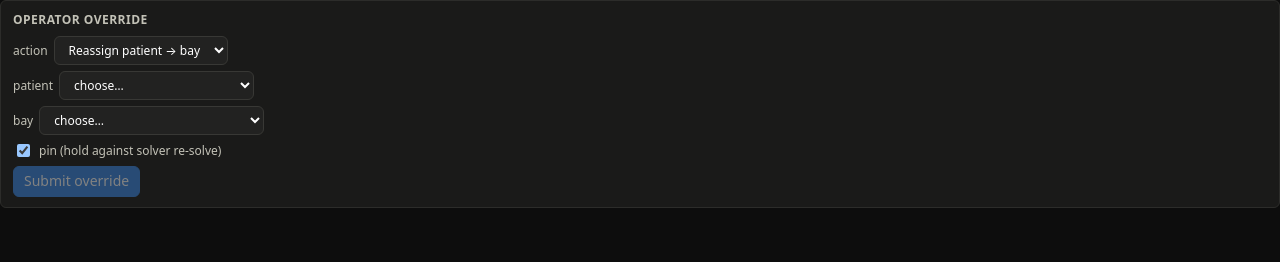
Scenario: OverridePanel accept path › shows the applied verdict, plan size, pin state, and sends pin=true by default
Select "Reassign patient → bay" in the dropdown named "override action": (141,51) [54,36,228,65]
Select "p-0001 · ESI-3 · waiting_bay" in the dropdown labelled "patient": (157,86) [59,71,254,100]
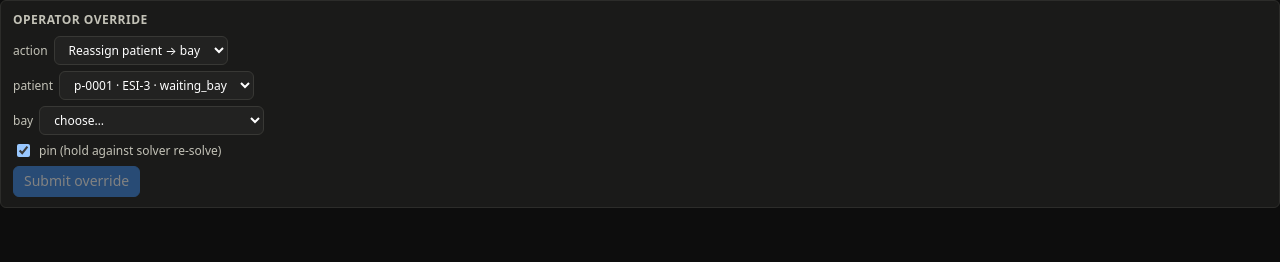
Select "bay-g1 · general · free" in the dropdown labelled "bay": (152,121) [39,106,264,135]
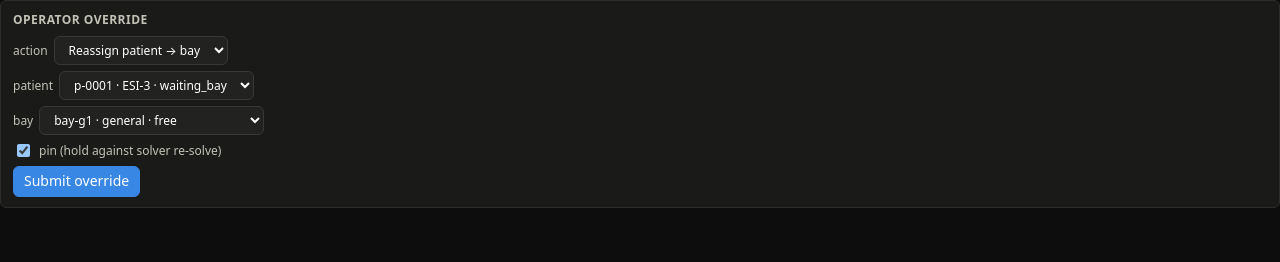
Click the button "Submit override": (77,182) [13,166,140,197]
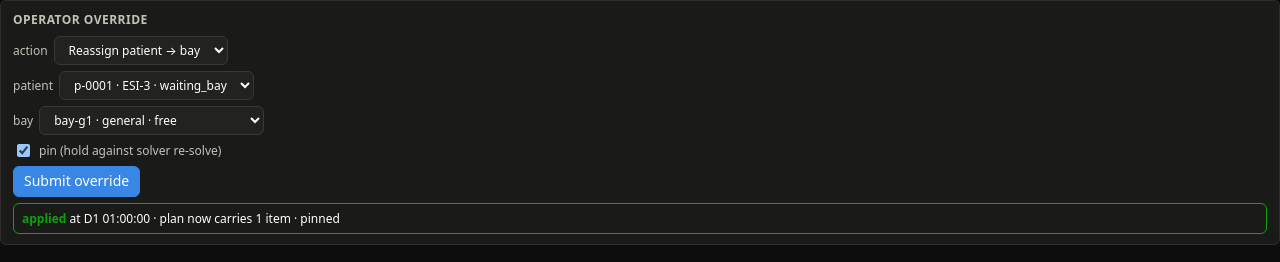
Check: the message shows "applied", box [22,210,66,227]
Check: the message shows "D1 01:00:00", box [84,210,150,227]
Check: the message shows "1 item", box [13,203,1267,234]
